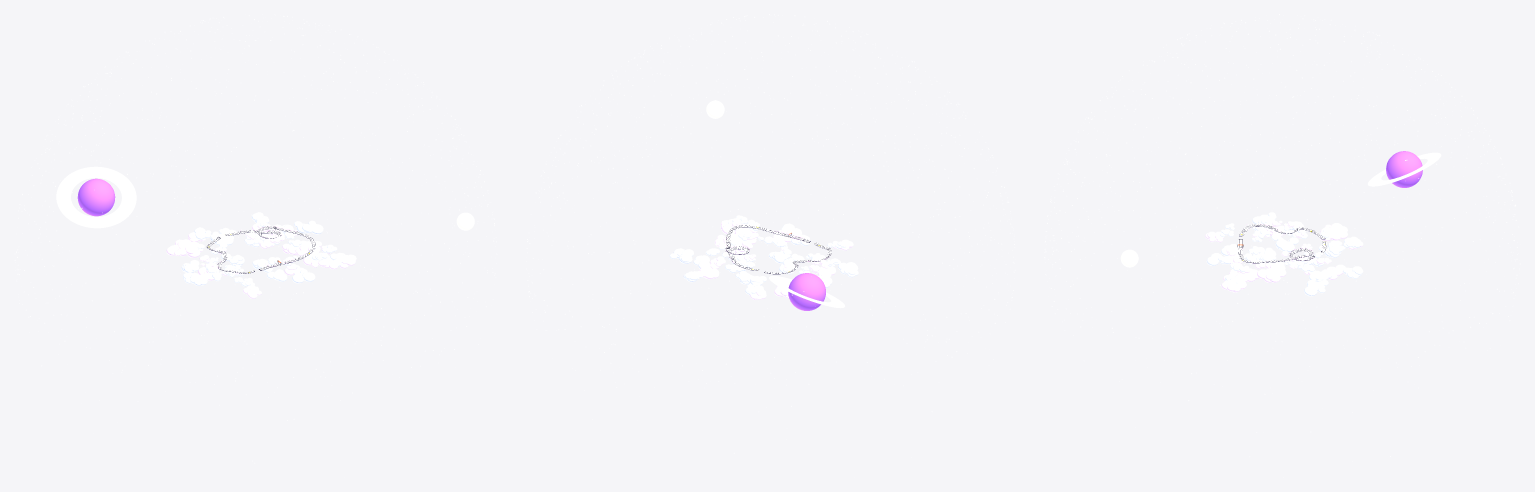
Rendered from sterrenbaan.glb.
3 views of the same model, side by side, from view 1: azimuth 30°, elevation 25°; view 2: azimuth 150°, elevation 25°; view 3: azimuth 270°, elevation 25° (orthographic). The views are drawn at different scales.
Visible parts, largest first — view 1: SB_PlaneetRing, SB_Hemelsterren, SB_Planeet, SB_Weg_Tegels; view 2: SB_Hemelsterren, SB_Planeet, SB_Weg_Tegels; view 3: SB_Hemelsterren, SB_Planeet, SB_Weg_Tegels, SB_PlaneetRing.
Boxes of the visible parts, bbox=[...] form: SB_PlaneetRing: bbox=[56, 166, 136, 228]; SB_Hemelsterren: bbox=[14, 14, 497, 463]; SB_Planeet: bbox=[77, 178, 115, 216]; SB_Weg_Tegels: bbox=[207, 226, 315, 273]; SB_Hemelsterren: bbox=[526, 14, 1015, 457]; SB_Planeet: bbox=[788, 273, 825, 310]; SB_Weg_Tegels: bbox=[726, 225, 831, 273]; SB_Hemelsterren: bbox=[1044, 14, 1520, 477]; SB_Planeet: bbox=[1386, 151, 1422, 187]; SB_Weg_Tegels: bbox=[1238, 224, 1326, 262]; SB_PlaneetRing: bbox=[1368, 152, 1441, 186].
Bounding box in the file's own units: 1804 × 1607 × 1803.
